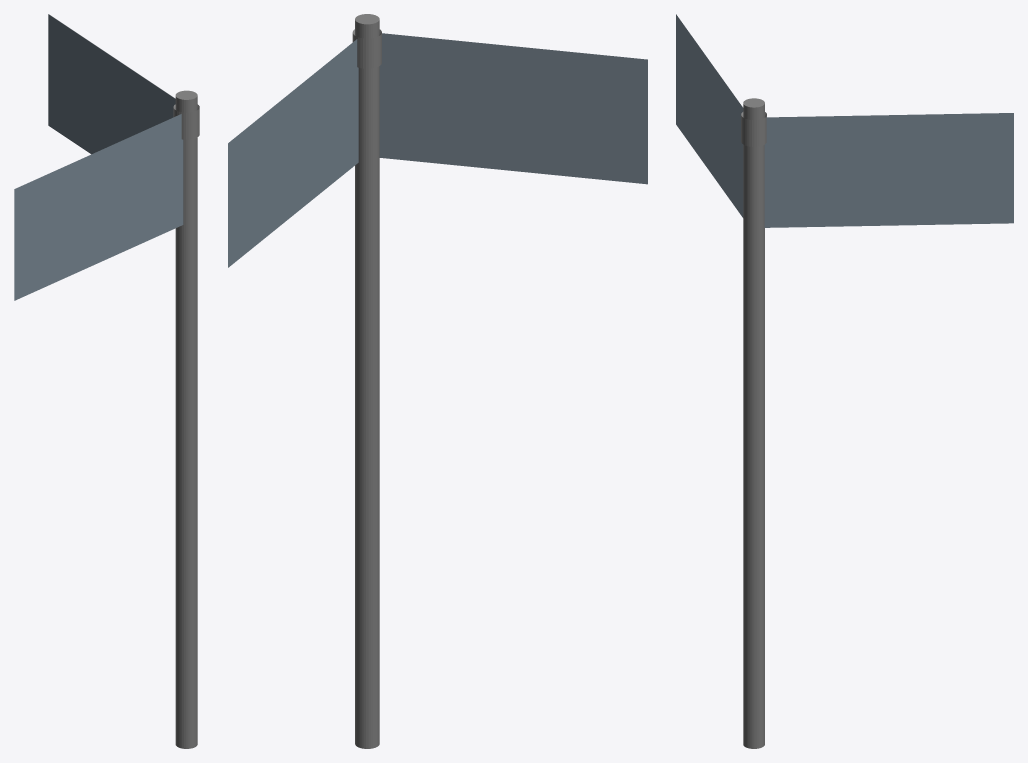
File: placa.fbx
3 renders of one model, left to right at view 1: azimuth 30°, elevation 25°; view 2: azimuth 150°, elevation 25°; view 3: azimuth 270°, elevation 25°, orthographic. The views are drawn at different scales.
Parts seen in each view (by area): view 1: Plane.001, Poste, Plane; view 2: Plane.001, Poste, Plane; view 3: Plane, Poste, Plane.001.
Boxes of the visible parts, x1,y1,x2,y2 form: Plane.001: (14, 114, 183, 300); Poste: (173, 90, 199, 748); Plane: (48, 14, 175, 154); Plane.001: (379, 33, 647, 184); Poste: (352, 14, 381, 748); Plane: (228, 39, 358, 267); Plane: (764, 113, 1013, 227); Poste: (741, 98, 766, 748); Plane.001: (676, 14, 743, 217).
Size of the model in its own units: 41.66 by 116 by 55.26.
